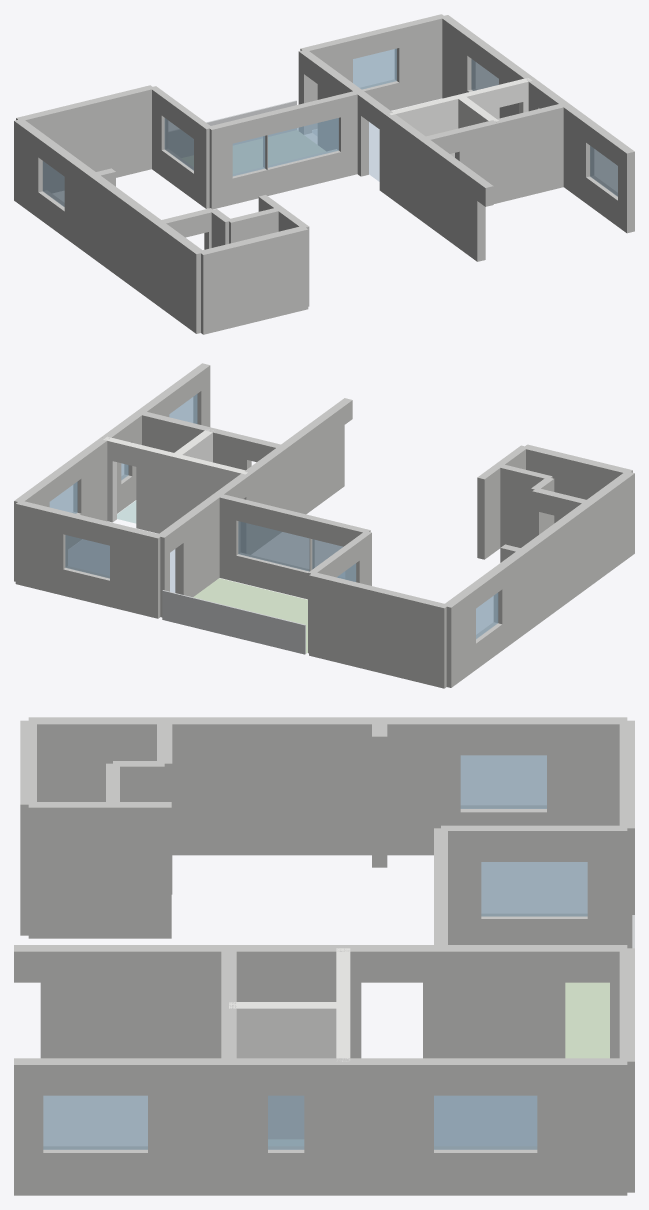
Rendered from Screenshot 2026-10-06 144536_3d.glb.
3 renders of one model, top to bottom at view 1: azimuth 30°, elevation 25°; view 2: azimuth 150°, elevation 25°; view 3: azimuth 270°, elevation 25°, orthographic. The views are drawn at different scales.
Visible parts, largest first — view 1: wall_W11_25, wall_W1_0, wall_W13_30, wall_W8_20, wall_W22_46, wall_W14_31, wall_W2_4, wall_W21_45, wall_W12_26, window_N6_66, wall_W12_29, wall_W26_57 (+45 smaller); view 2: wall_W1_0, wall_W13_30, wall_W22_46, railing_R1_69, wall_W2_1, wall_W2_4, wall_W14_31, wall_W19_41, wall_W6_14, wall_W11_25, floor_R1_balcony_70, wall_W12_26 (+39 smaller); view 3: wall_W13_30, wall_W22_46, wall_W19_41, wall_W24_52, wall_W24_49, wall_W17_34, wall_W26_57, wall_W12_29, wall_W14_31, wall_W16_33, wall_W12_26, wall_W23_48 (+37 smaller).
Boxes of the visible parts, box(x1,y1,x2,y2) form: wall_W11_25: box(199, 226, 308, 334); wall_W1_0: box(16, 85, 154, 192); wall_W13_30: box(89, 174, 162, 303); wall_W8_20: box(493, 103, 567, 203); wall_W22_46: box(420, 138, 485, 261); wall_W14_31: box(155, 222, 204, 333); wall_W2_4: box(395, 14, 445, 108); wall_W21_45: box(385, 114, 427, 219); wall_W12_26: box(14, 119, 46, 217); window_N6_66: box(268, 118, 338, 167); wall_W12_29: box(64, 156, 97, 255); wall_W26_57: box(562, 103, 593, 202); wall_W1_0: box(309, 572, 448, 688); wall_W13_30: box(521, 501, 593, 631); wall_W22_46: box(280, 404, 344, 514); railing_R1_69: box(162, 590, 305, 654); wall_W2_1: box(110, 523, 161, 618); wall_W2_4: box(15, 500, 67, 595); wall_W14_31: box(585, 471, 634, 583); wall_W19_41: box(175, 494, 219, 597); wall_W6_14: box(136, 445, 177, 533); wall_W11_25: box(522, 444, 632, 523); floor_R1_balcony_70: box(193, 578, 307, 653); wall_W12_26: box(443, 587, 475, 687); wall_W13_30: box(164, 717, 379, 855); wall_W22_46: box(40, 945, 228, 1058); wall_W19_41: box(441, 945, 565, 1058); wall_W24_52: box(343, 1058, 433, 1195); wall_W24_49: box(537, 1058, 627, 1195); wall_W17_34: box(28, 802, 112, 938); wall_W26_57: box(148, 1058, 228, 1195); wall_W12_29: box(379, 717, 460, 855); wall_W14_31: box(28, 717, 164, 801); wall_W16_33: box(113, 802, 171, 938); wall_W12_26: box(547, 717, 627, 825); wall_W23_48: box(229, 1002, 343, 1138).
Bounding box in the file's own units: 15.66 × 2.75 × 11.82.
